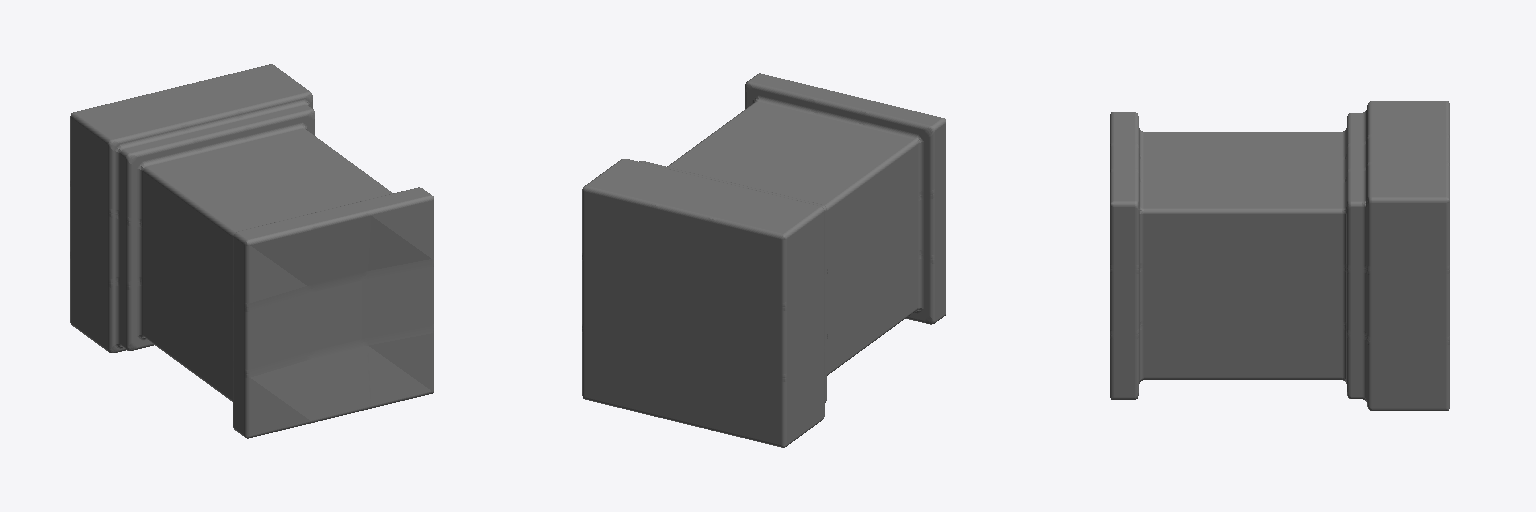
Rendered from altare_scalato.obj.
3 renders of one model, left to right at view 1: azimuth 30°, elevation 25°; view 2: azimuth 150°, elevation 25°; view 3: azimuth 270°, elevation 25°, orthographic.
Parts seen in each view (by area): view 1: Cube_Cube.001; view 2: Cube_Cube.001; view 3: Cube_Cube.001.
Part boxes in pixels (x1,y1,x2,y2): Cube_Cube.001: (70, 64, 433, 438); Cube_Cube.001: (582, 73, 945, 447); Cube_Cube.001: (1110, 101, 1449, 410).
Bounding box in the file's own units: 5.96 × 5.96 × 8.61.